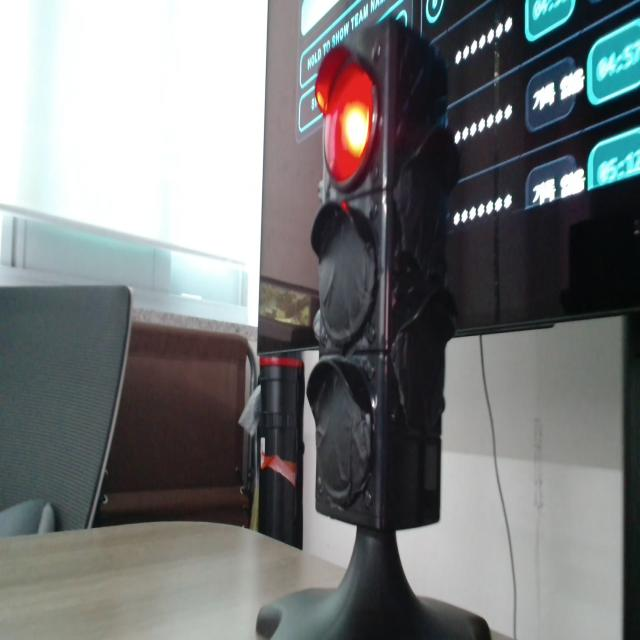red_light: (317, 61, 374, 184)
